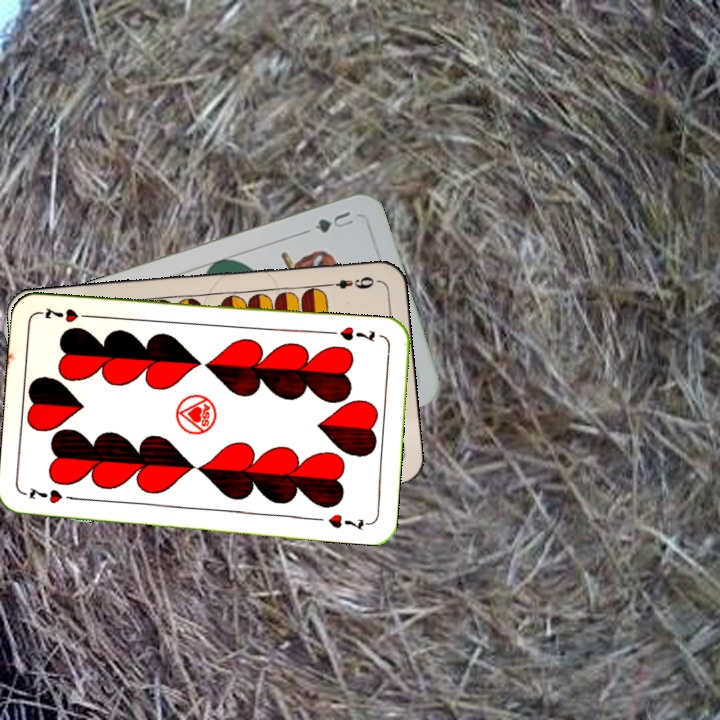E9: (321, 272, 380, 291)
GU: (310, 207, 358, 236)
H7: (23, 485, 82, 506), (325, 322, 378, 345)
